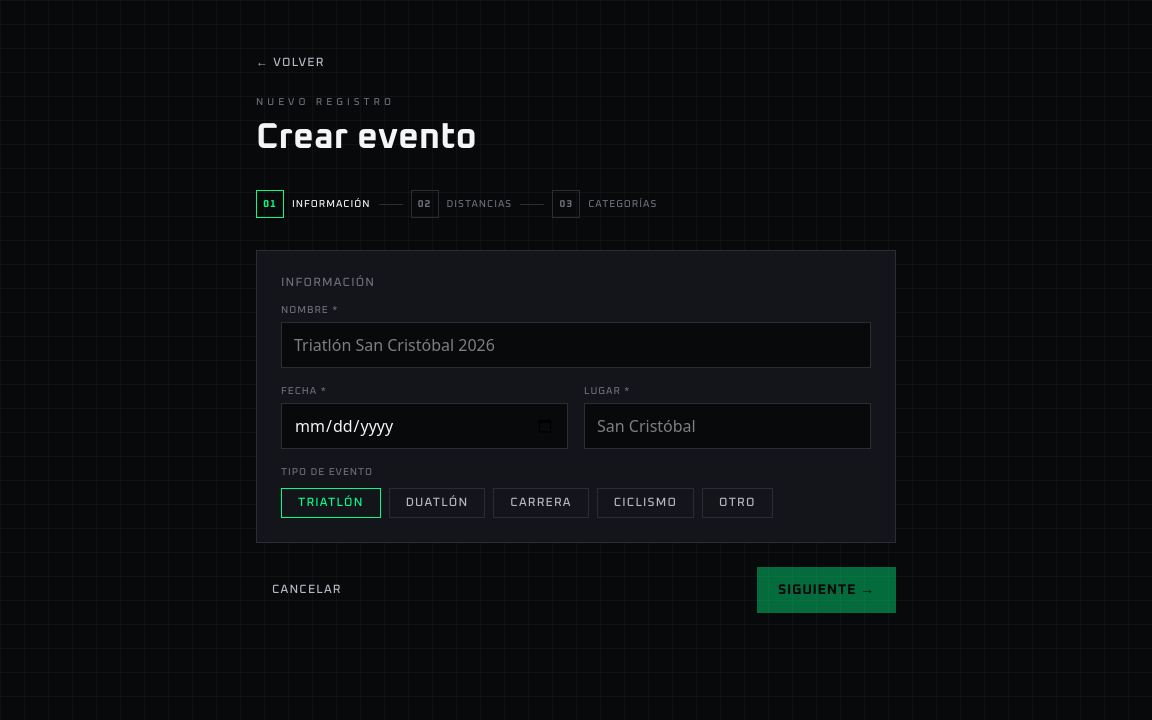
Test: NuevoEvento — categorías más claras › keeps Crear evento disabled while a category has no name
Type "Tri Test" into the field with placeholder "Triatlón San Cristóbal 2026" at (576, 345), box x1=281 y1=322 x2=871 y2=368
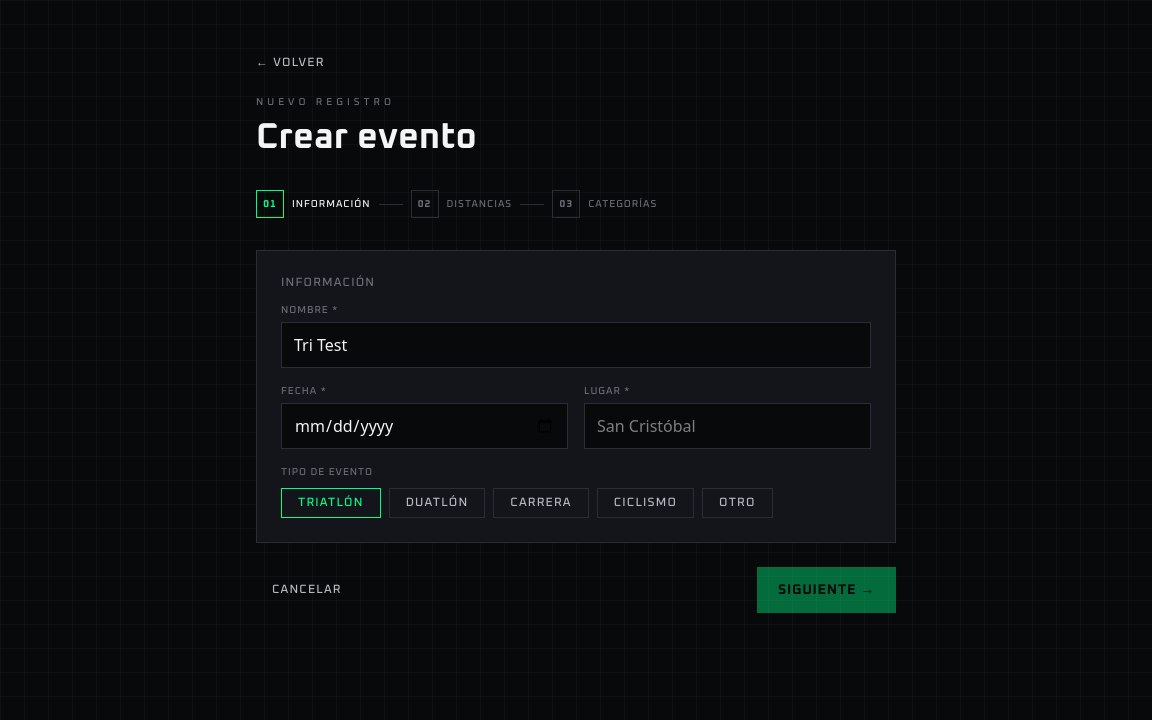
Type "2026-10-04" into the date field at (424, 426), box x1=281 y1=403 x2=568 y2=449
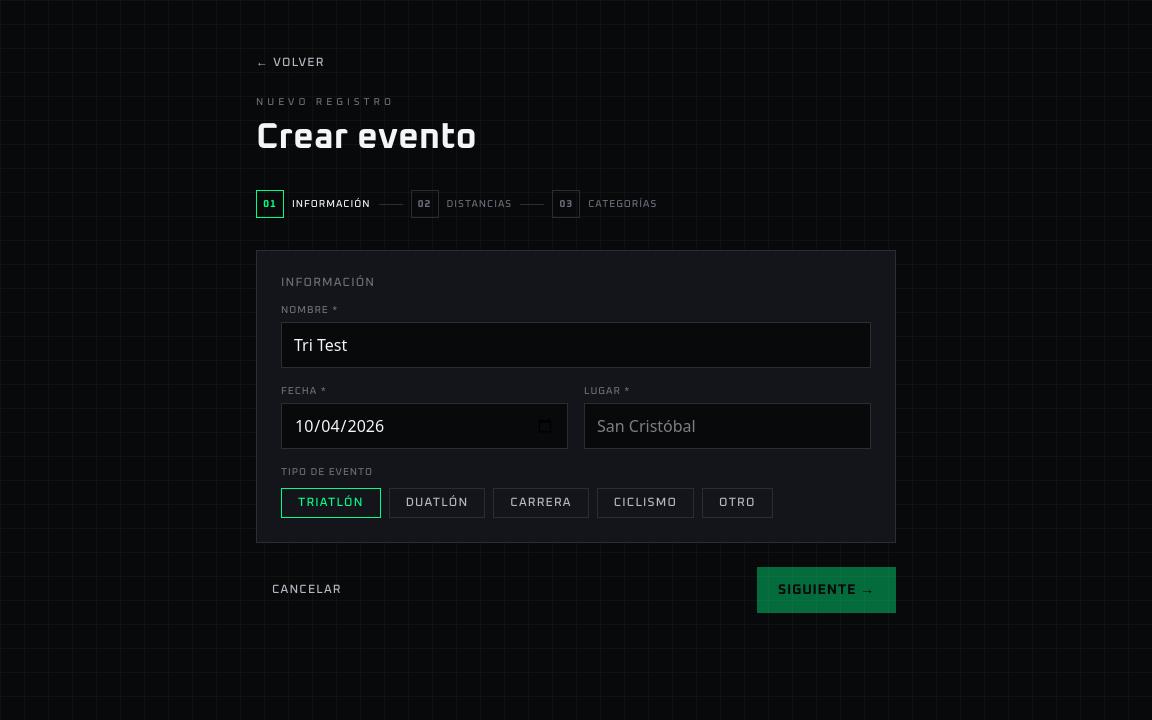
Type "CDMX" into the field with placeholder "San Cristóbal" at (728, 426), box x1=584 y1=403 x2=871 y2=449
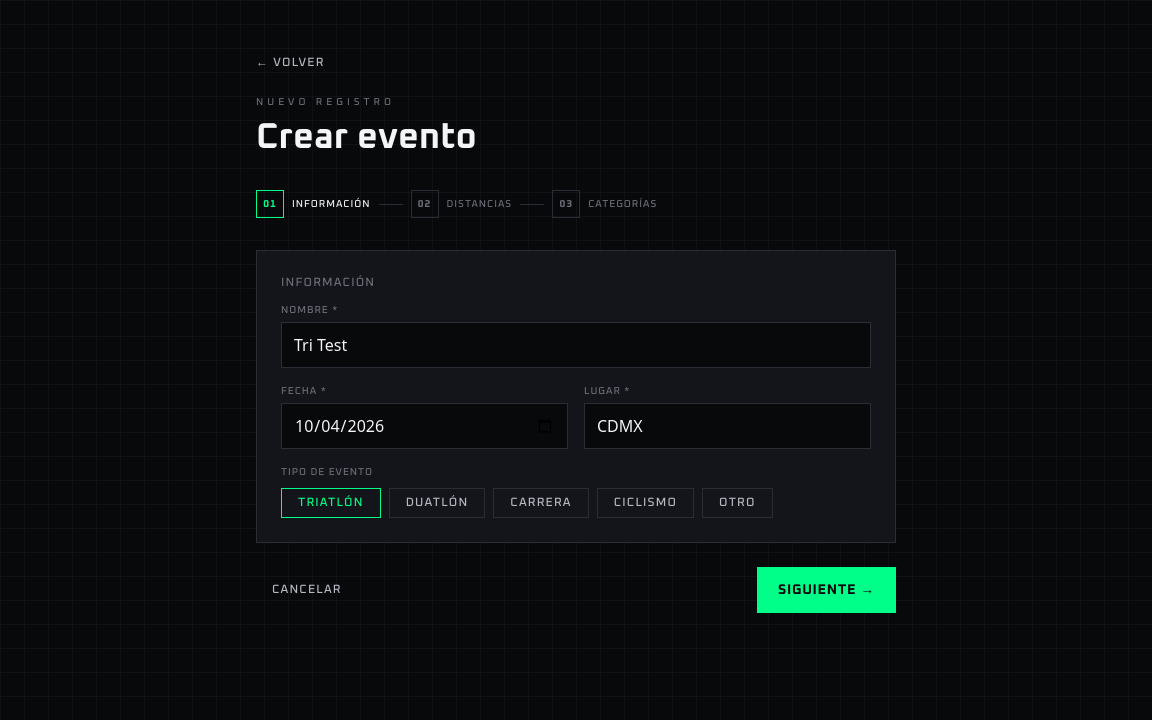
Click the button "Siguiente →" at (826, 590), box x1=757 y1=567 x2=896 y2=613
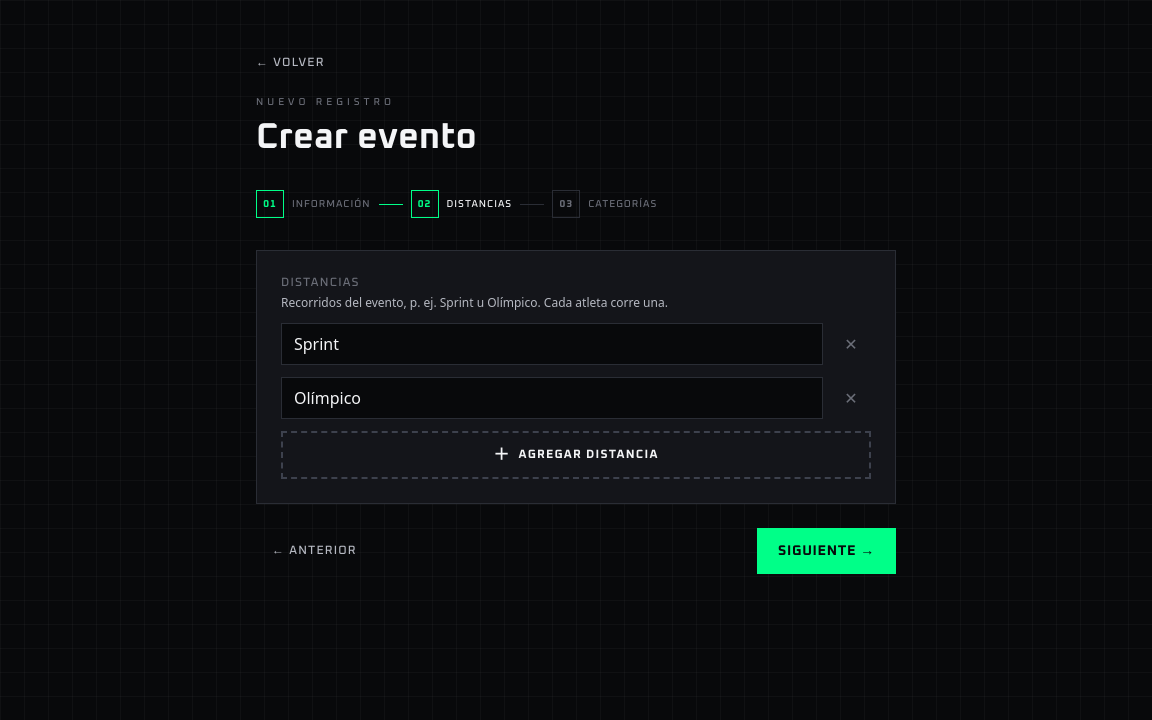
Click the button "Siguiente →" at (826, 551), box x1=757 y1=528 x2=896 y2=574
(page scrolled)
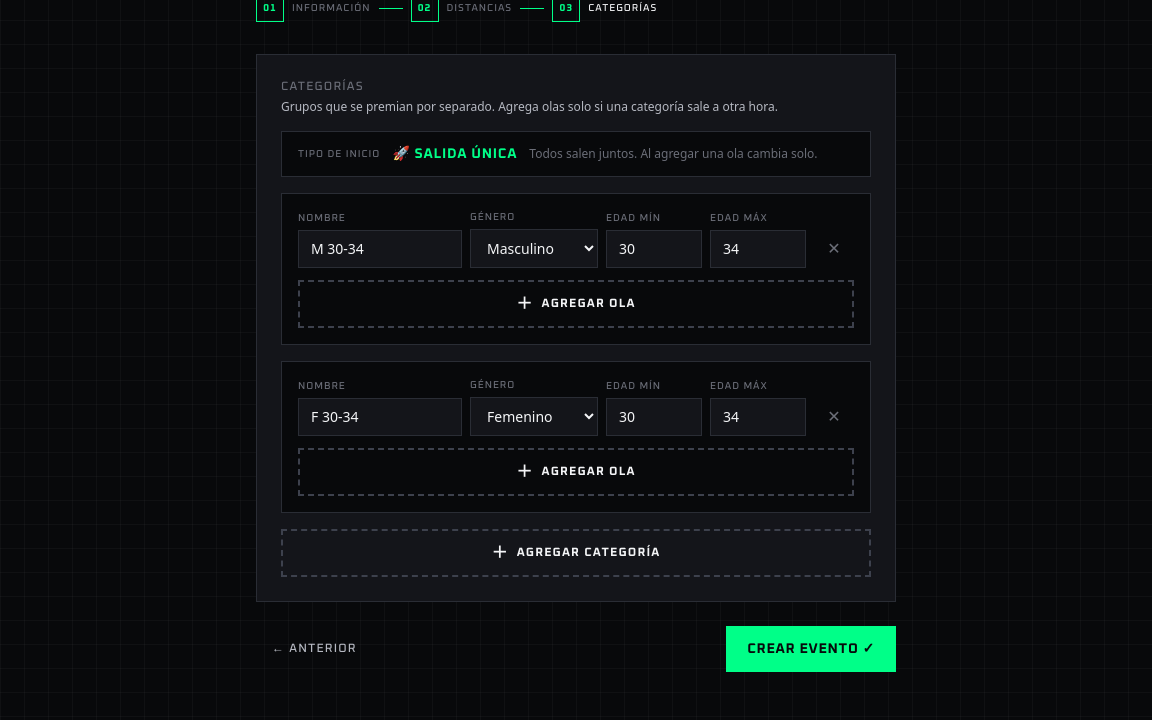
Click the button "＋ Agregar categoría" at (576, 553), box x1=281 y1=529 x2=871 y2=577
(page scrolled)
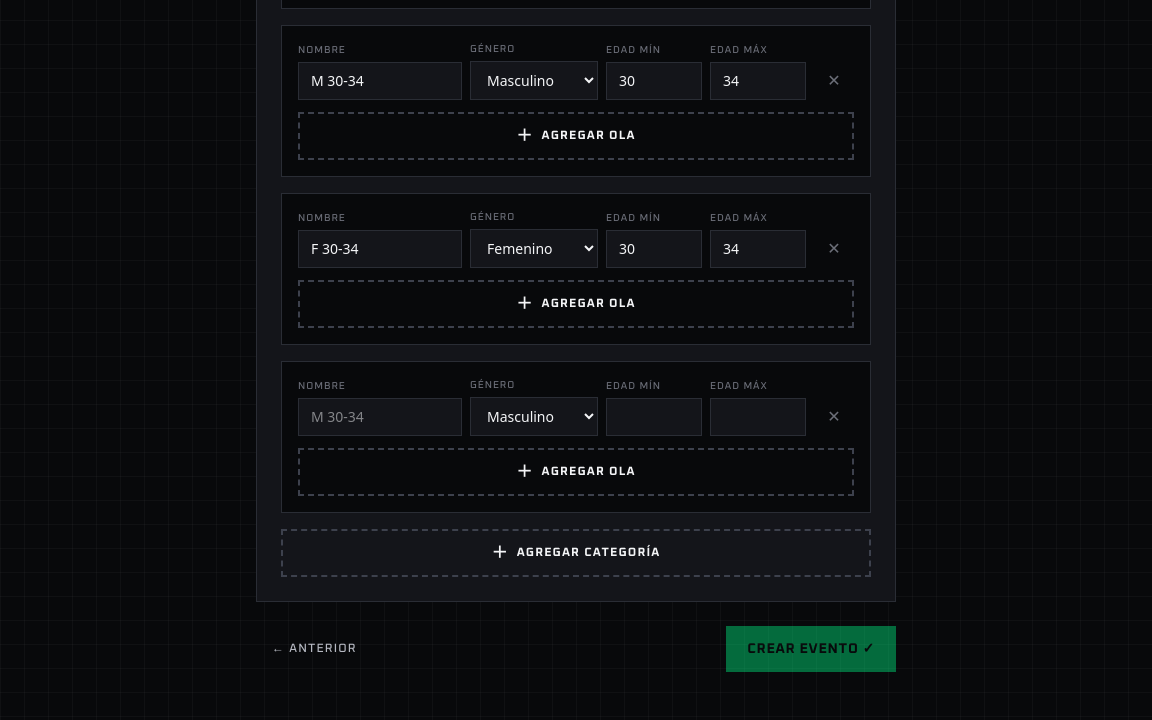
Expected: the button "Crear evento ✓" is disabled, x1=726 y1=626 x2=896 y2=672
